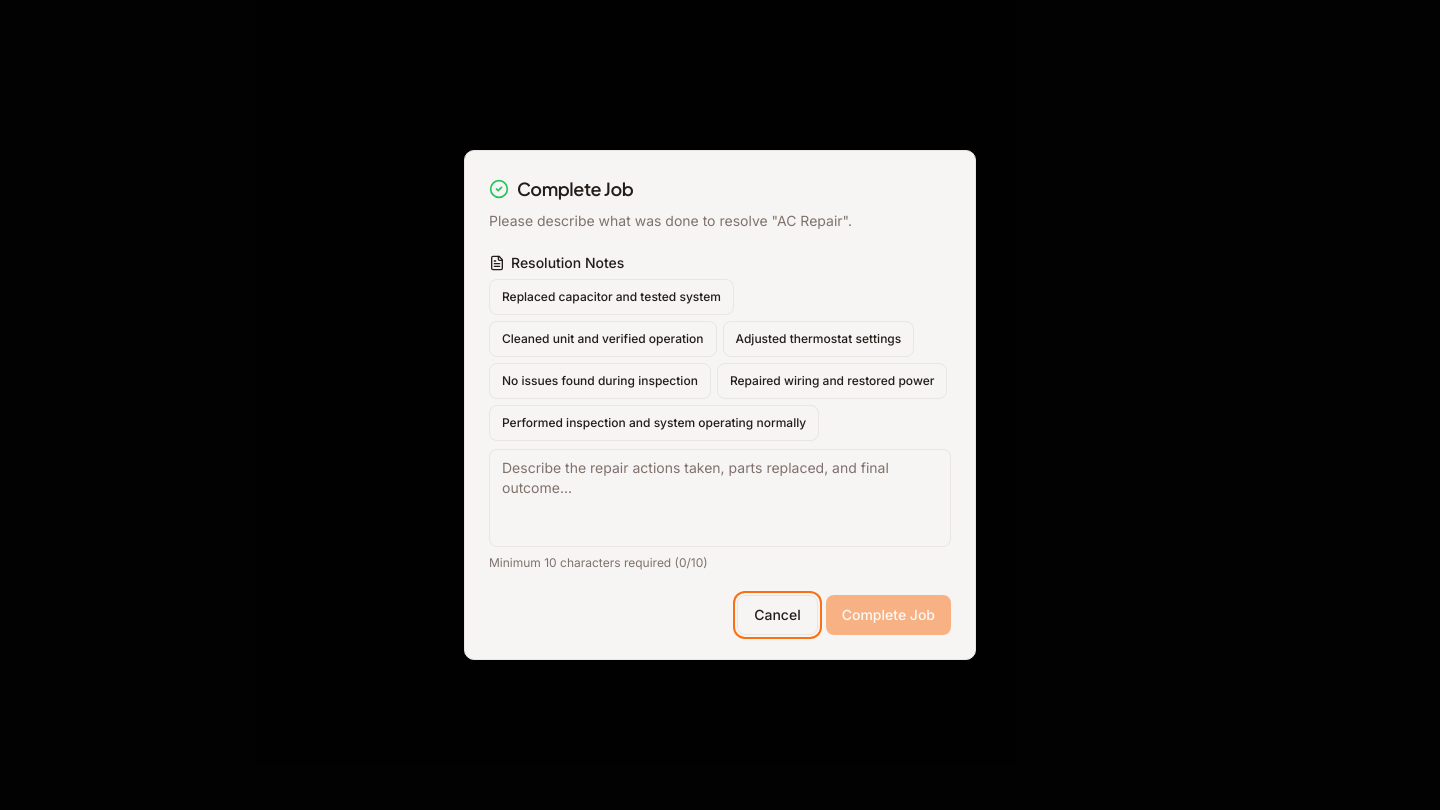
JobCompletionDialog › disables Complete until the minimum-length notes are entered
The width and height of the screenshot is (1440, 810).
Check: the button "Complete Job" is disabled, box [826,595,951,635]
Replace the text in the text box labelled "Resolution Notes" with "short": (720,498) [489,449,951,547]
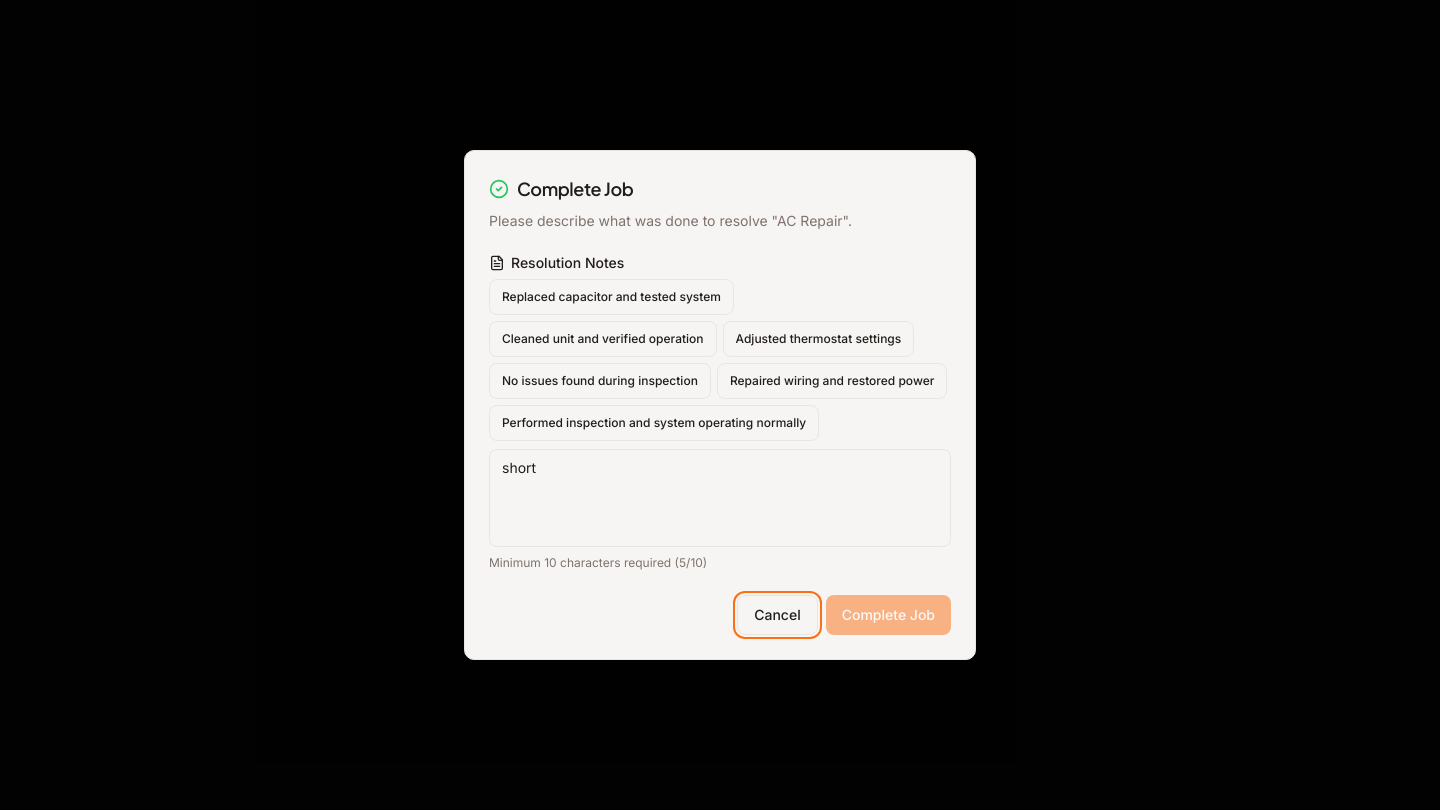
Check: the button "Complete Job" is disabled, box [826,595,951,635]
Replace the text in the text box labelled "Resolution Notes" with "Replaced the capacitor and tested the system": (720,498) [489,449,951,547]
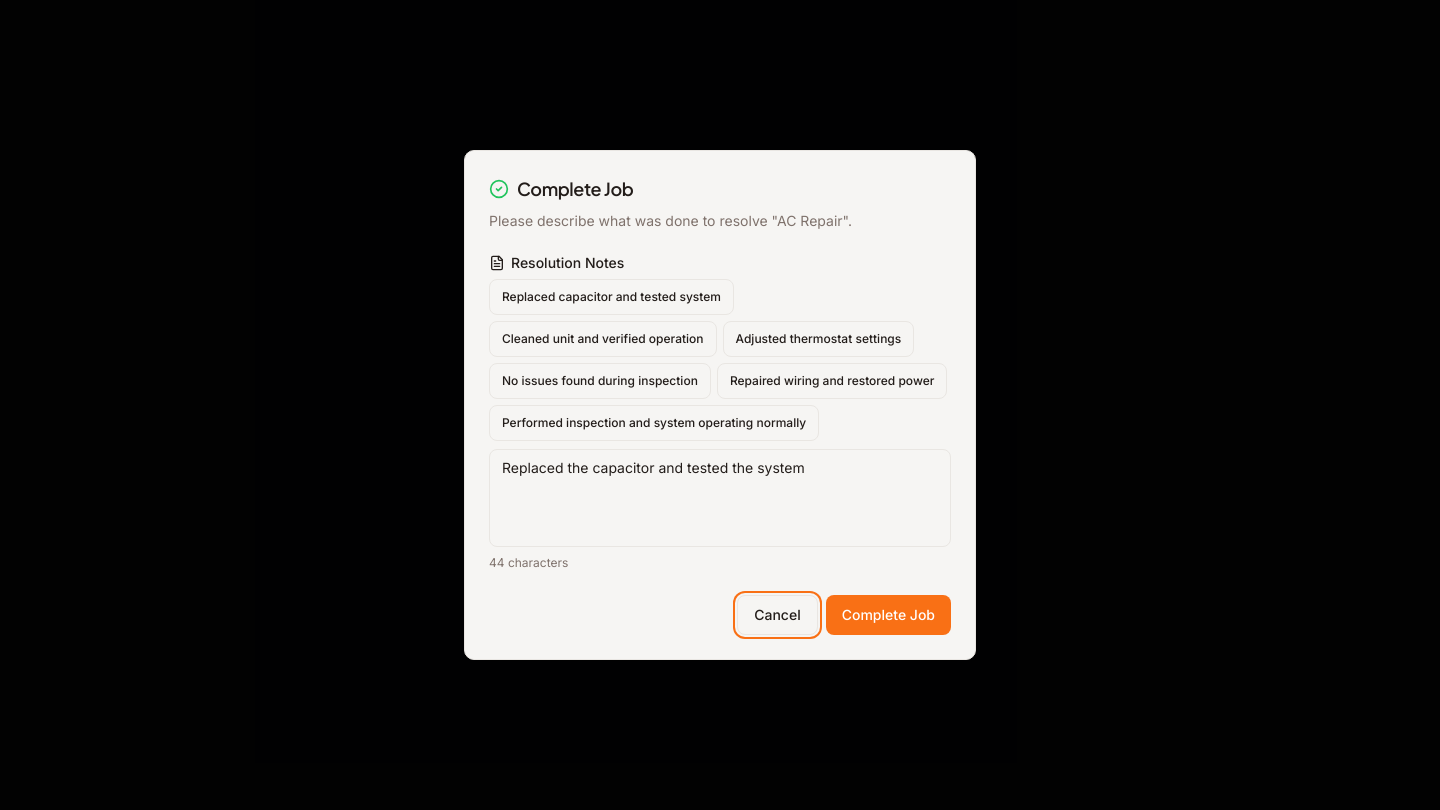
Check: the button "Complete Job" is enabled, box [826,595,951,635]
